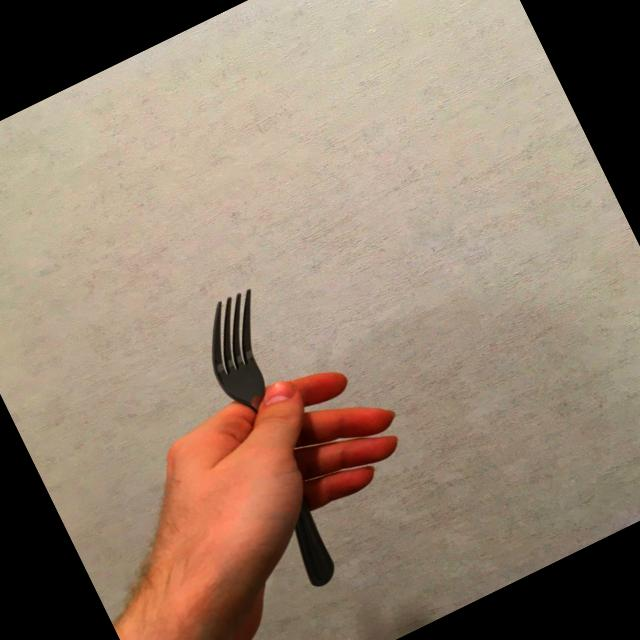fork: (180, 283, 384, 591)
